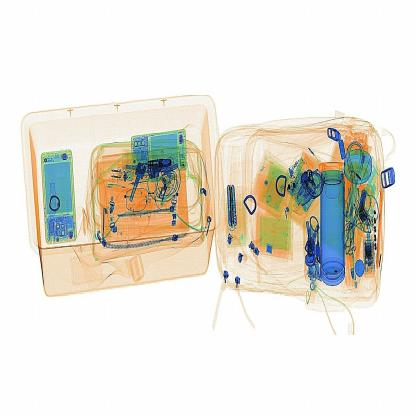scissors: (221, 176, 246, 235)
